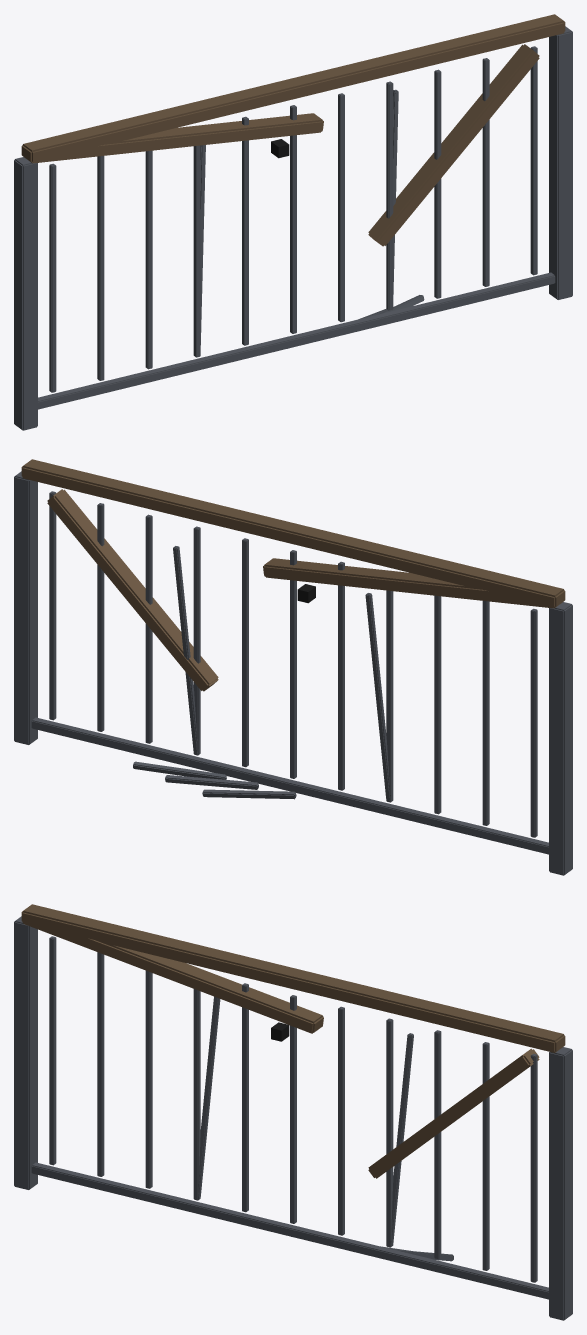
The model's file is railing_stairs.glb.
3 views of the same model, one above another, from view 1: azimuth 30°, elevation 25°; view 2: azimuth 150°, elevation 25°; view 3: azimuth 330°, elevation 25° (orthographic).
Parts seen in each view (by area): view 1: broken_mesh, ok_mesh; view 2: broken_mesh, ok_mesh; view 3: broken_mesh, ok_mesh.
Boxes of the visible parts, box(x1,y1,x2,y2) form: broken_mesh: box(14, 26, 572, 430); ok_mesh: box(21, 14, 565, 357); broken_mesh: box(14, 471, 572, 875); ok_mesh: box(21, 459, 565, 802); broken_mesh: box(14, 912, 572, 1320); ok_mesh: box(21, 904, 565, 1247).
Size of what is drawn, in the model's own units: 2.06 by 0.995 by 0.1454.
